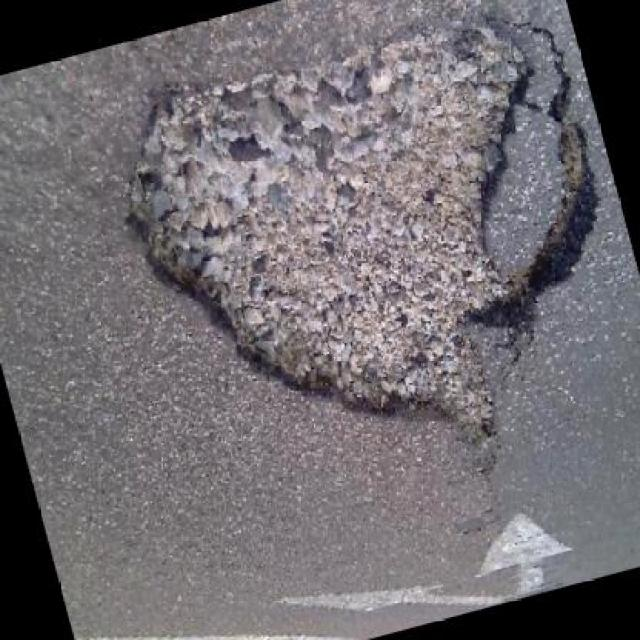pothole1: (87, 0, 638, 540)
